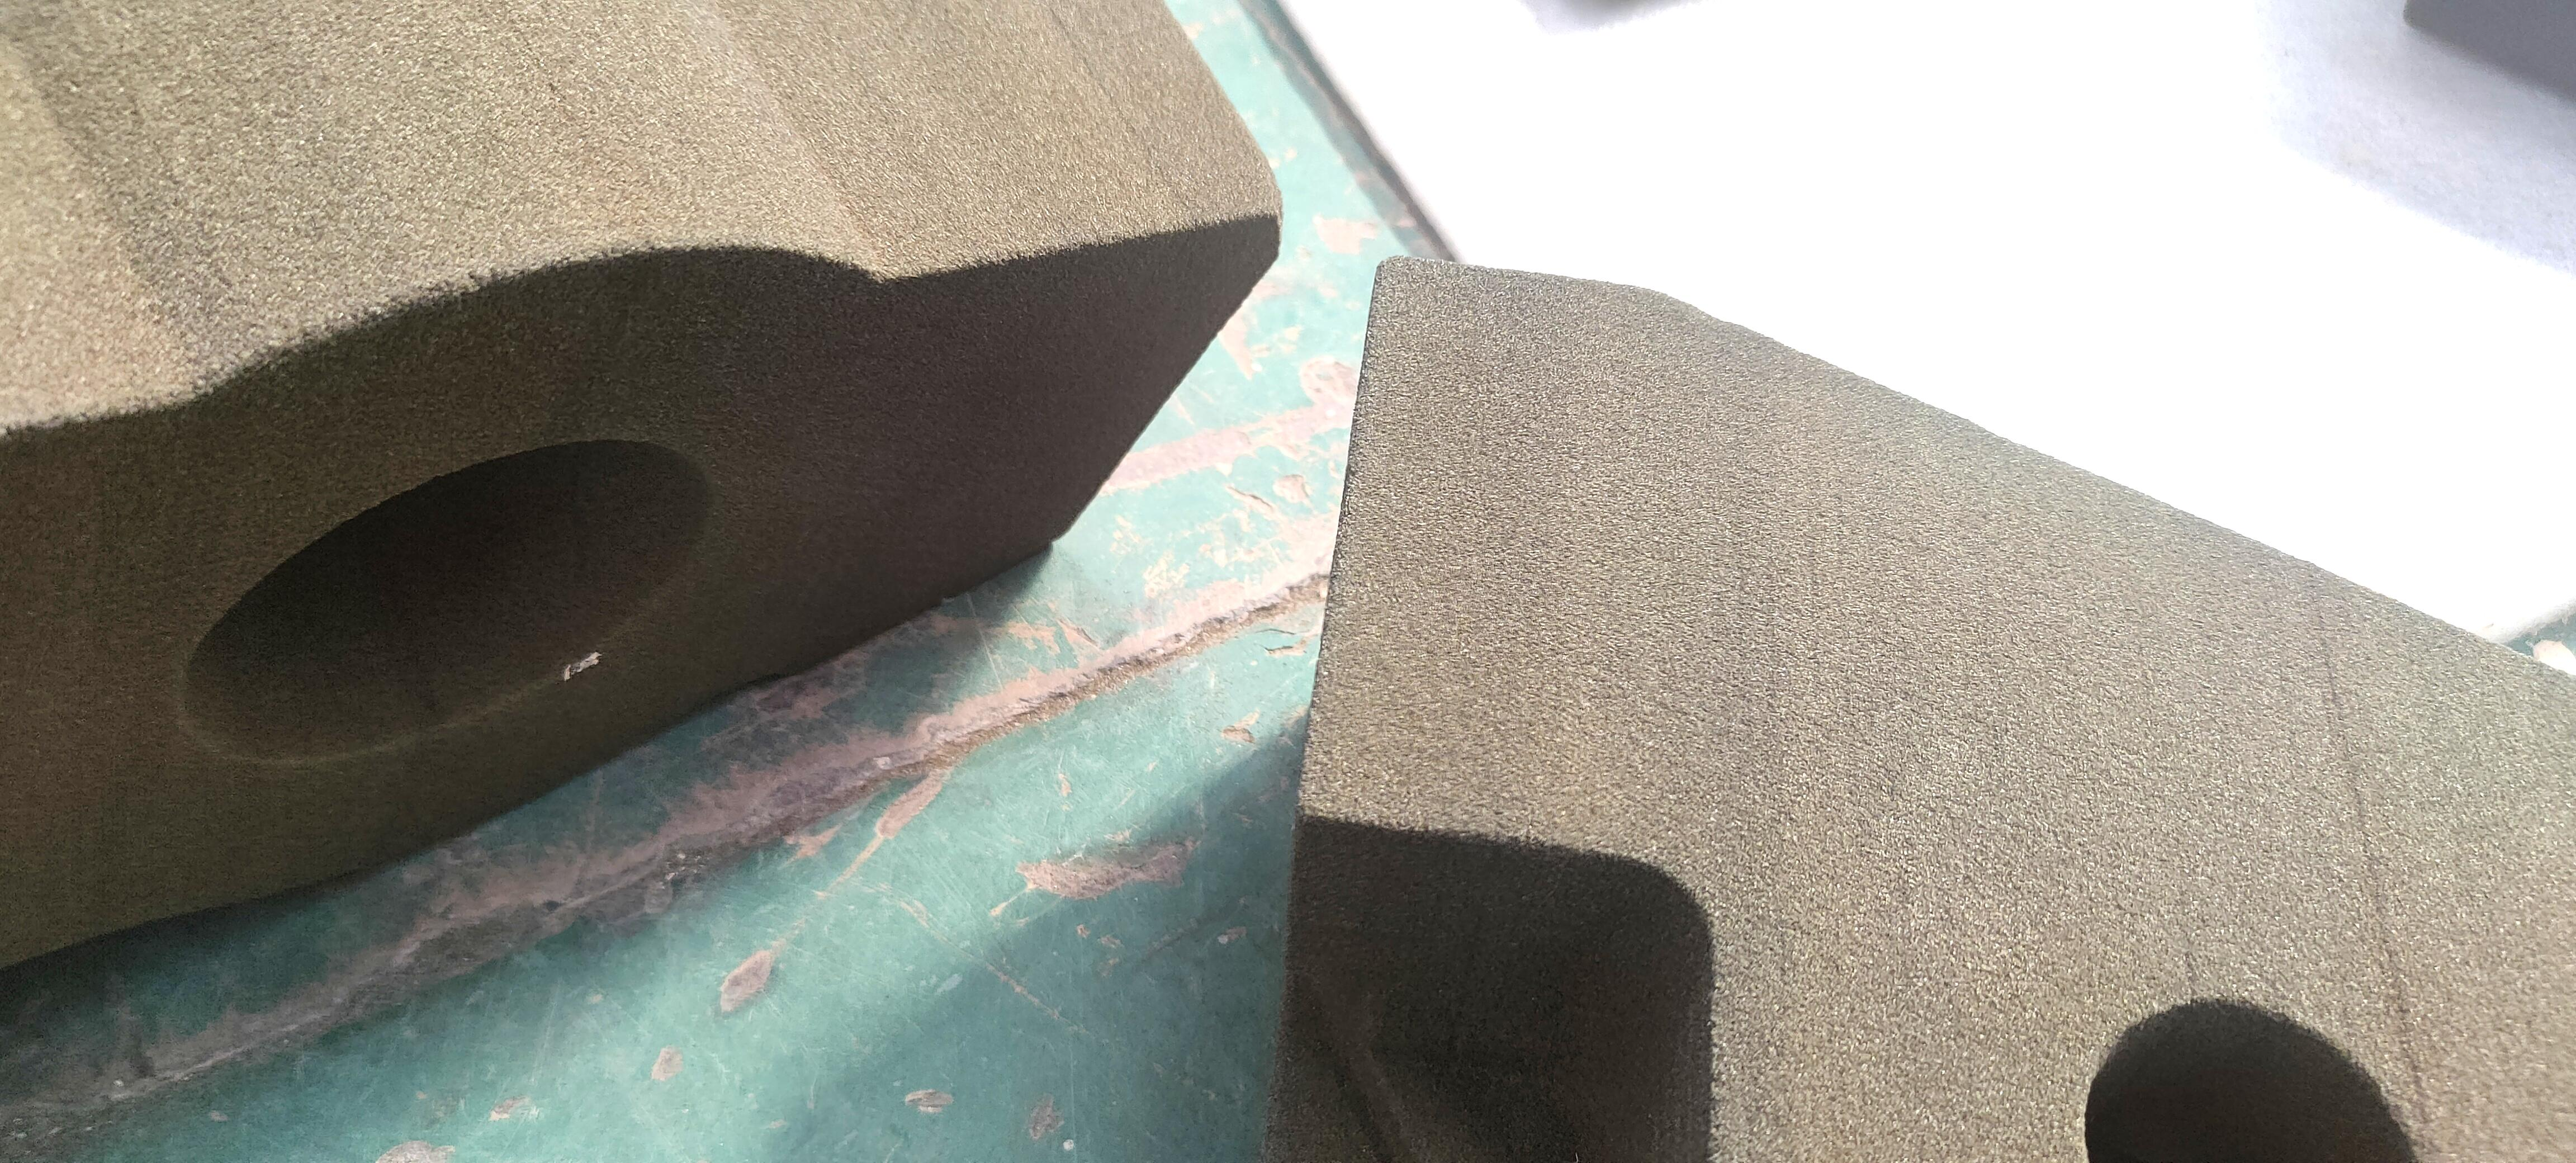pouring hole: (186, 435, 711, 769)
